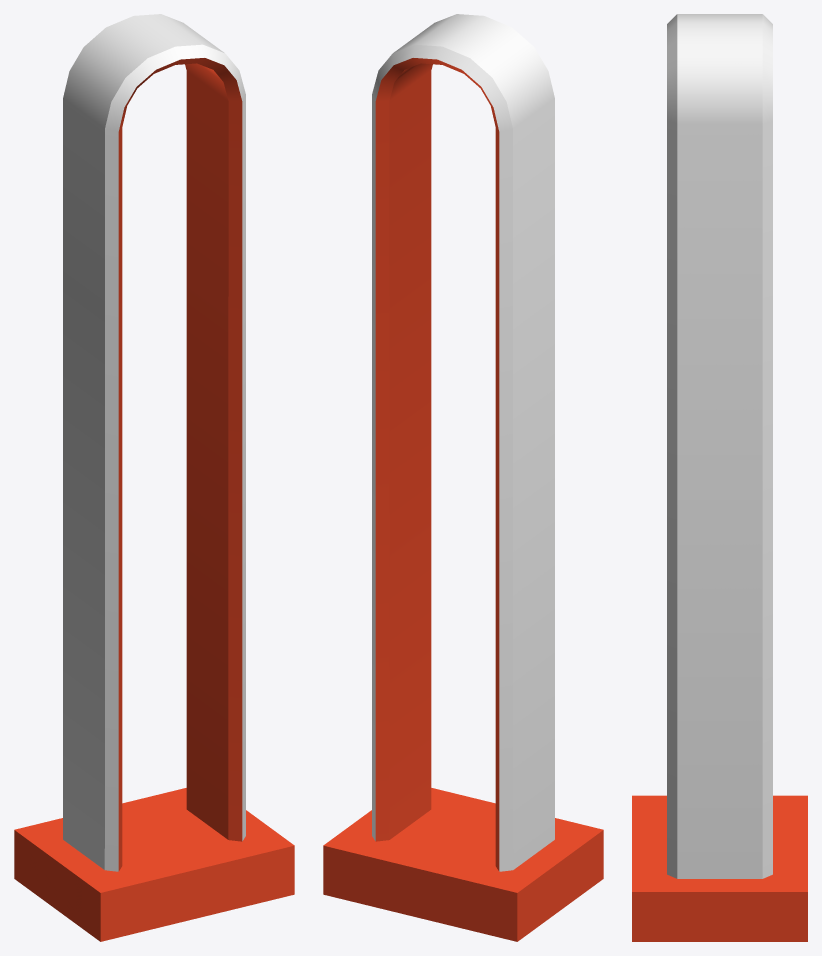
File: Lamp_LODs.fbx
3 renders of one model, left to right at view 1: azimuth 30°, elevation 25°; view 2: azimuth 150°, elevation 25°; view 3: azimuth 270°, elevation 25°, orthographic.
Visible parts, largest first — view 1: Lamp_LOD0; view 2: Lamp_LOD0; view 3: Lamp_LOD0.
Boxes of the visible parts, box(x1,y1,x2,y2) form: Lamp_LOD0: box(14, 14, 294, 941); Lamp_LOD0: box(323, 14, 603, 941); Lamp_LOD0: box(632, 14, 807, 941).
Size of what is drawn, in the model's own units: 48.95 by 206 by 37.69.
